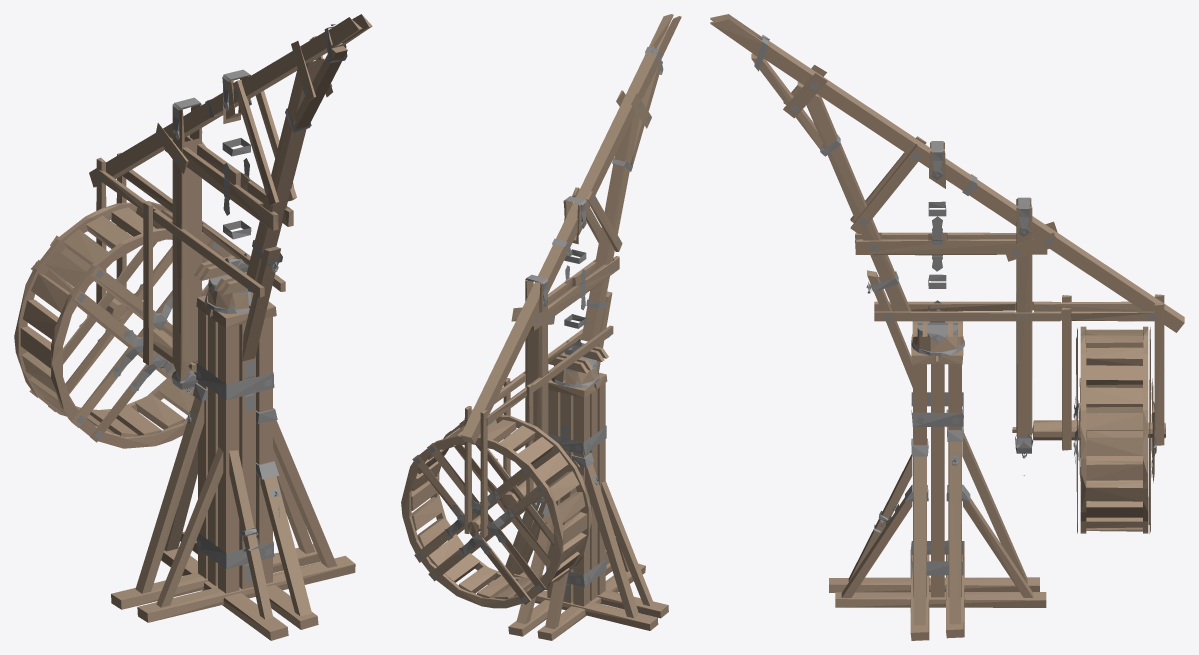
Rendered from build_crane_01.FBX.
The picture shows the model from 3 angles, left to right: view 1: azimuth 30°, elevation 25°; view 2: azimuth 150°, elevation 25°; view 3: azimuth 270°, elevation 25°; orthographic projection. The views are drawn at different scales.
Parts seen in each view (by area): view 1: build_crane_01, build_crane_01_wheel; view 2: build_crane_01, build_crane_01_wheel; view 3: build_crane_01, build_crane_01_wheel.
Boxes of the visible parts, x1,y1,x2,y2 form: build_crane_01: (89,14,372,640); build_crane_01_wheel: (14,201,232,448); build_crane_01: (460,14,681,640); build_crane_01_wheel: (401,414,592,608); build_crane_01: (710,14,1184,640); build_crane_01_wheel: (1012,326,1165,533).
Size of the model in its own units: 630 by 1859 by 1375.
